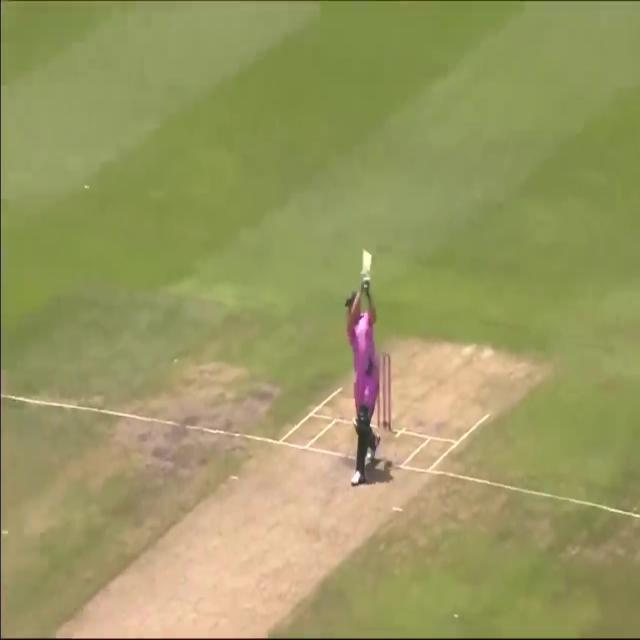Ball: (322, 272, 411, 480)
